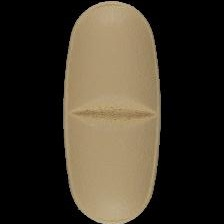54868-6073: (0, 0, 224, 224)
